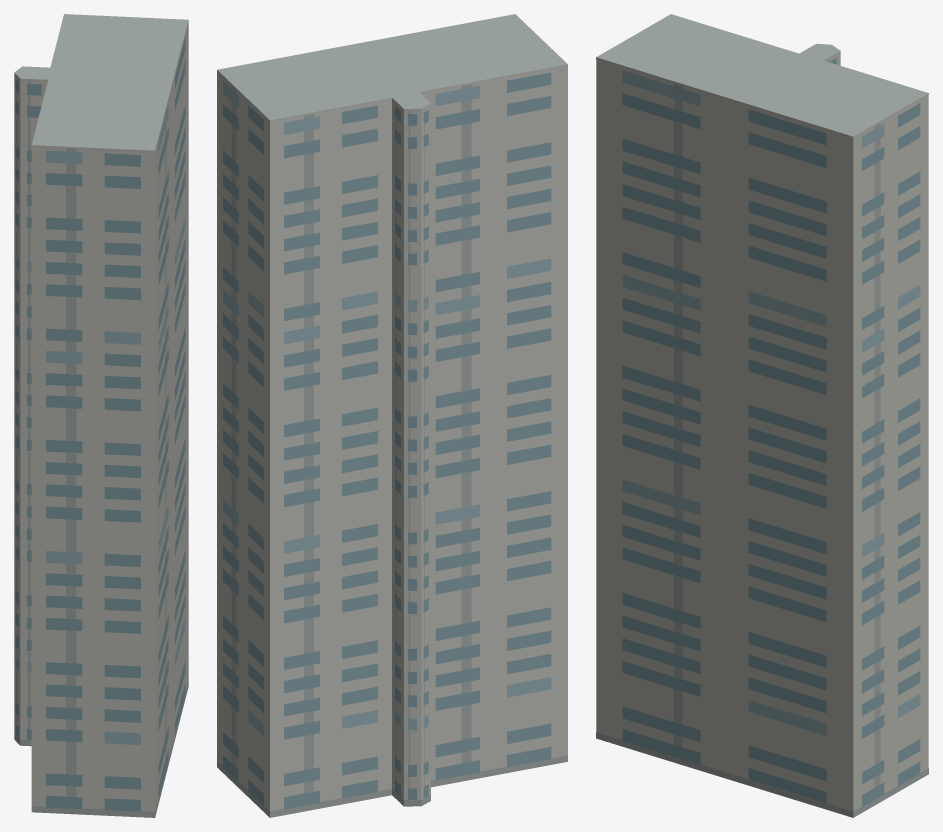
Rendered from residential-8e261869-bc50-4d07-9202-ba5fd9c60b71.glb.
3 views of the same model, side by side, from view 1: azimuth 30°, elevation 25°; view 2: azimuth 150°, elevation 25°; view 3: azimuth 270°, elevation 25° (orthographic). The views are drawn at different scales.
Parts seen in each view (by area): view 1: residential-8e261869-bc50-4d07-9202-ba5fd9c60b71.tmp; view 2: residential-8e261869-bc50-4d07-9202-ba5fd9c60b71.tmp; view 3: residential-8e261869-bc50-4d07-9202-ba5fd9c60b71.tmp.
Boxes of the visible parts, box(x1,y1,x2,y2) form: residential-8e261869-bc50-4d07-9202-ba5fd9c60b71.tmp: box(14, 14, 188, 817); residential-8e261869-bc50-4d07-9202-ba5fd9c60b71.tmp: box(217, 14, 567, 817); residential-8e261869-bc50-4d07-9202-ba5fd9c60b71.tmp: box(596, 14, 928, 817).
Bounding box in the file's own units: 32.44 × 84 × 37.18.
